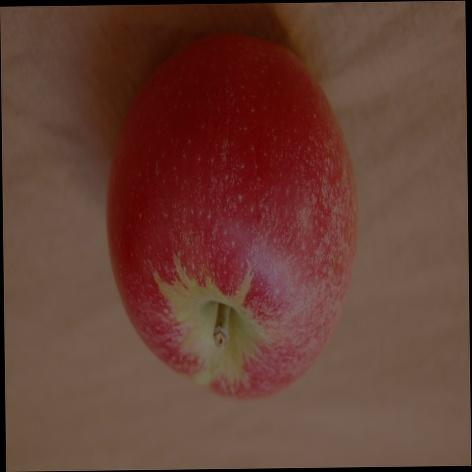red apple: (104, 31, 362, 408)
